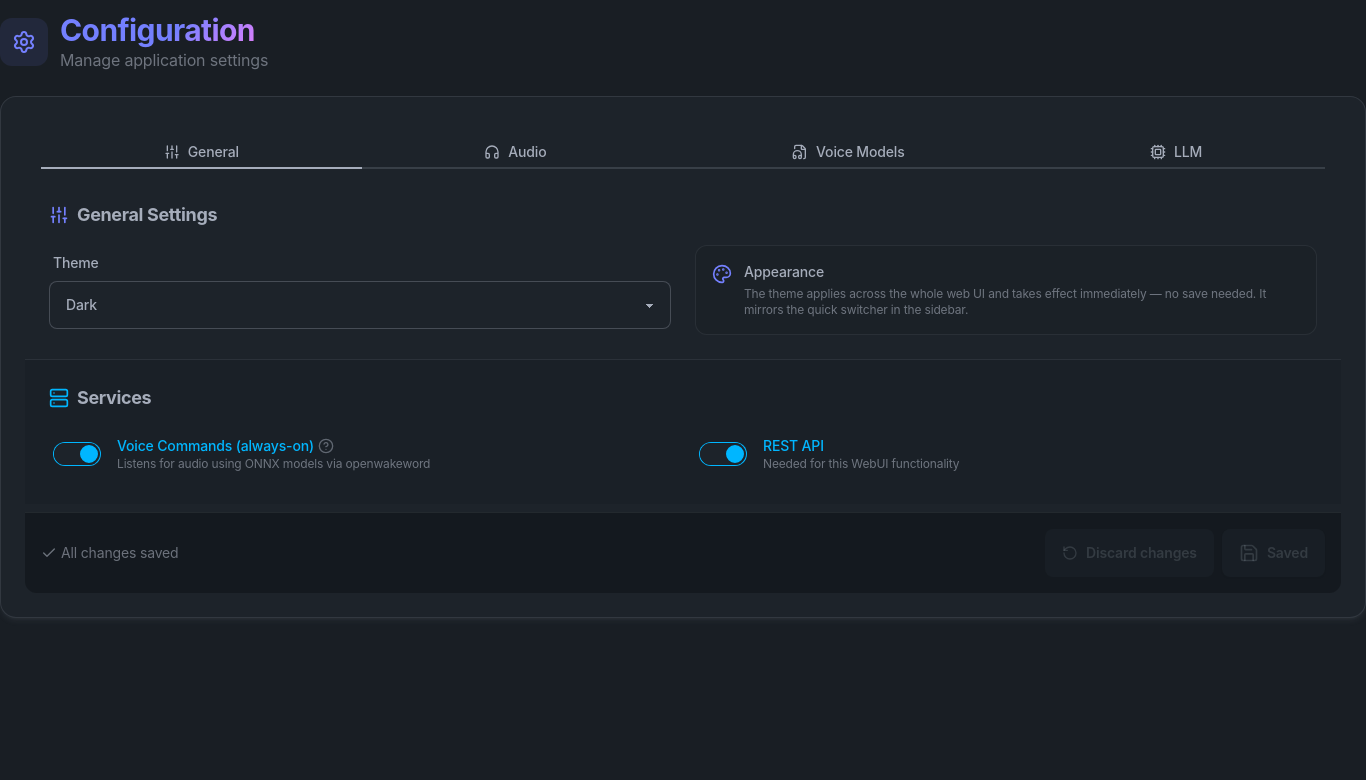
ConfigurationPage audio device tests › mic test reports no signal when the peak is below the threshold
The width and height of the screenshot is (1366, 780).
Click the tab "Audio" at (515, 153), box [362, 137, 669, 169]
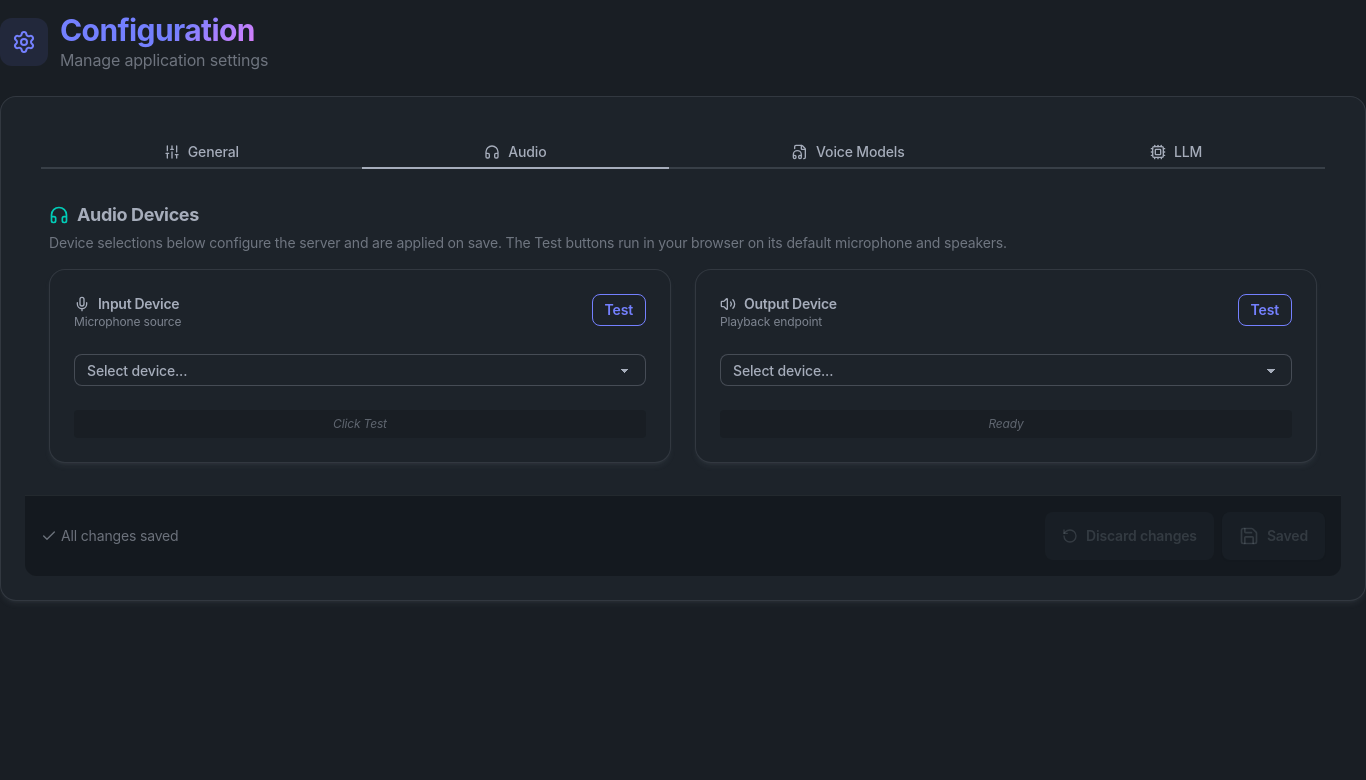
Click the button with test id "mic-test-button" at (619, 310), box [592, 294, 646, 326]
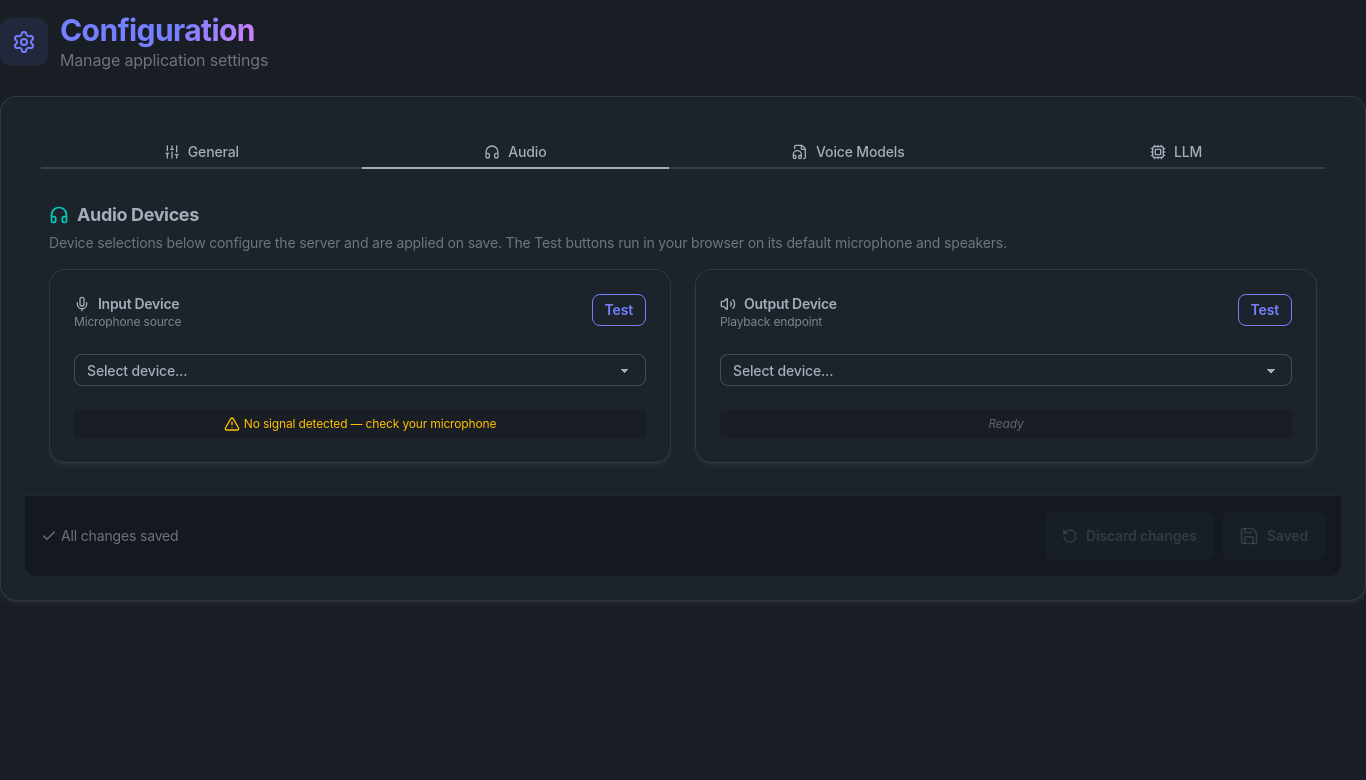
Result: the element with test id "mic-test-result" reads "No signal detected — check your microphone" at [244, 416, 496, 431]
